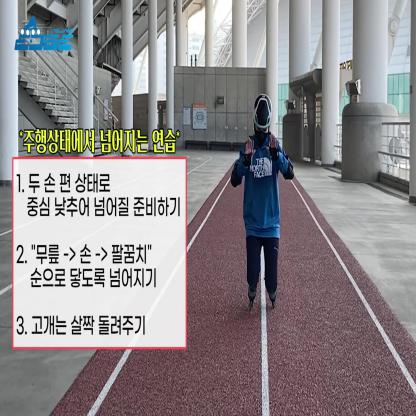Fall_Down: (231, 94, 296, 303)
